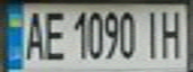0: (84, 8, 106, 61), (118, 7, 139, 60)
1: (66, 8, 87, 61)
9: (103, 8, 121, 60)
A: (21, 7, 48, 61)
E: (39, 7, 69, 62)
H: (157, 7, 190, 60)
I: (139, 7, 166, 60)
